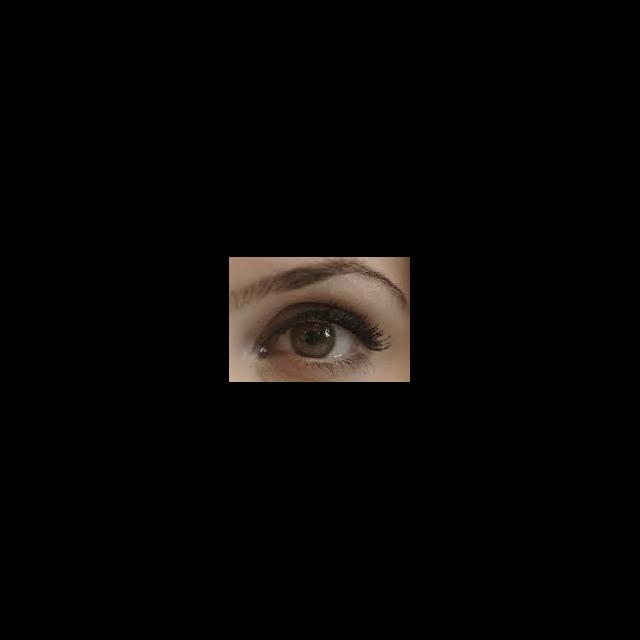eye: (273, 322, 362, 359)
iris: (292, 324, 335, 358)
